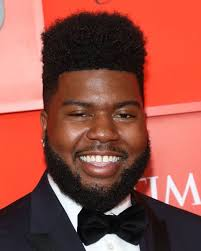s.black: (48, 120, 82, 161)
